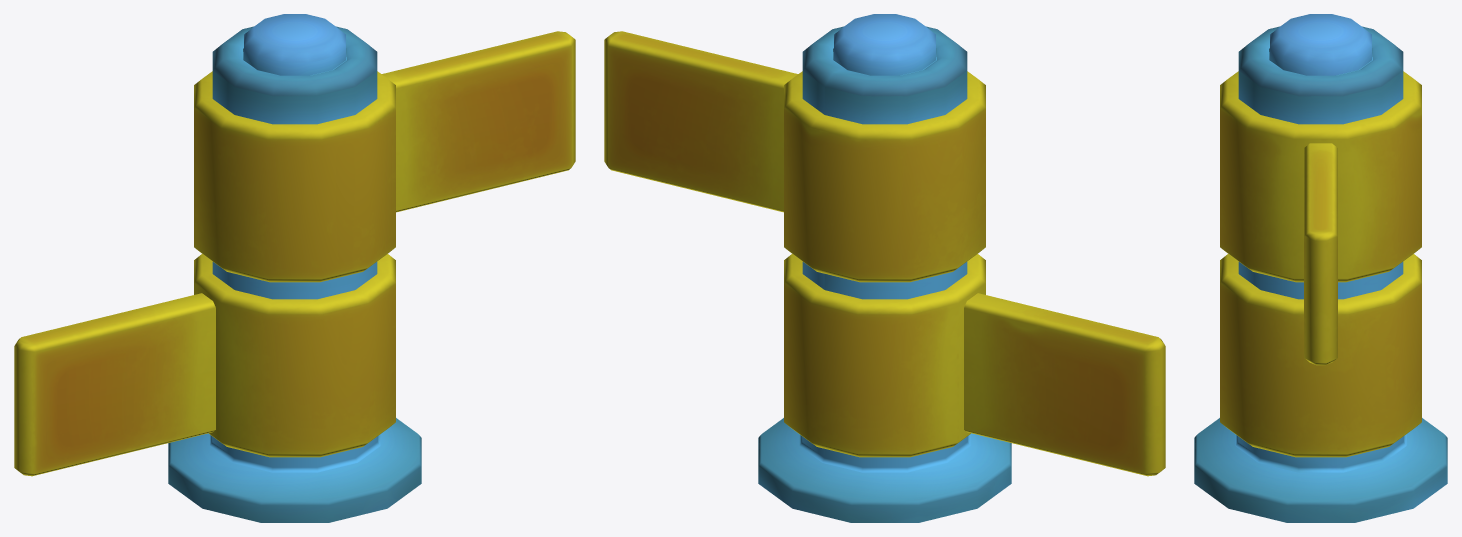
Rendered from Vertical_Rotate_Obstacle.fbx.
3 views of the same model, side by side, from view 1: azimuth 30°, elevation 25°; view 2: azimuth 150°, elevation 25°; view 3: azimuth 270°, elevation 25° (orthographic).
Visible parts, largest first — view 1: Rotating_part.007, Vertical_Rotate_Obstacle; view 2: Rotating_part.007, Vertical_Rotate_Obstacle; view 3: Rotating_part.007, Vertical_Rotate_Obstacle.
Boxes of the visible parts, x1=… form: Rotating_part.007: x1=14, y1=31, x2=575, y2=476; Vertical_Rotate_Obstacle: x1=168, y1=14, x2=421, y2=522; Rotating_part.007: x1=604, y1=31, x2=1165, y2=476; Vertical_Rotate_Obstacle: x1=758, y1=14, x2=1011, y2=522; Rotating_part.007: x1=1220, y1=71, x2=1421, y2=457; Vertical_Rotate_Obstacle: x1=1194, y1=14, x2=1447, y2=522.
Bounding box in the file's own units: 852 × 642 × 336.
Materials: 1 (1 with a texture image).
